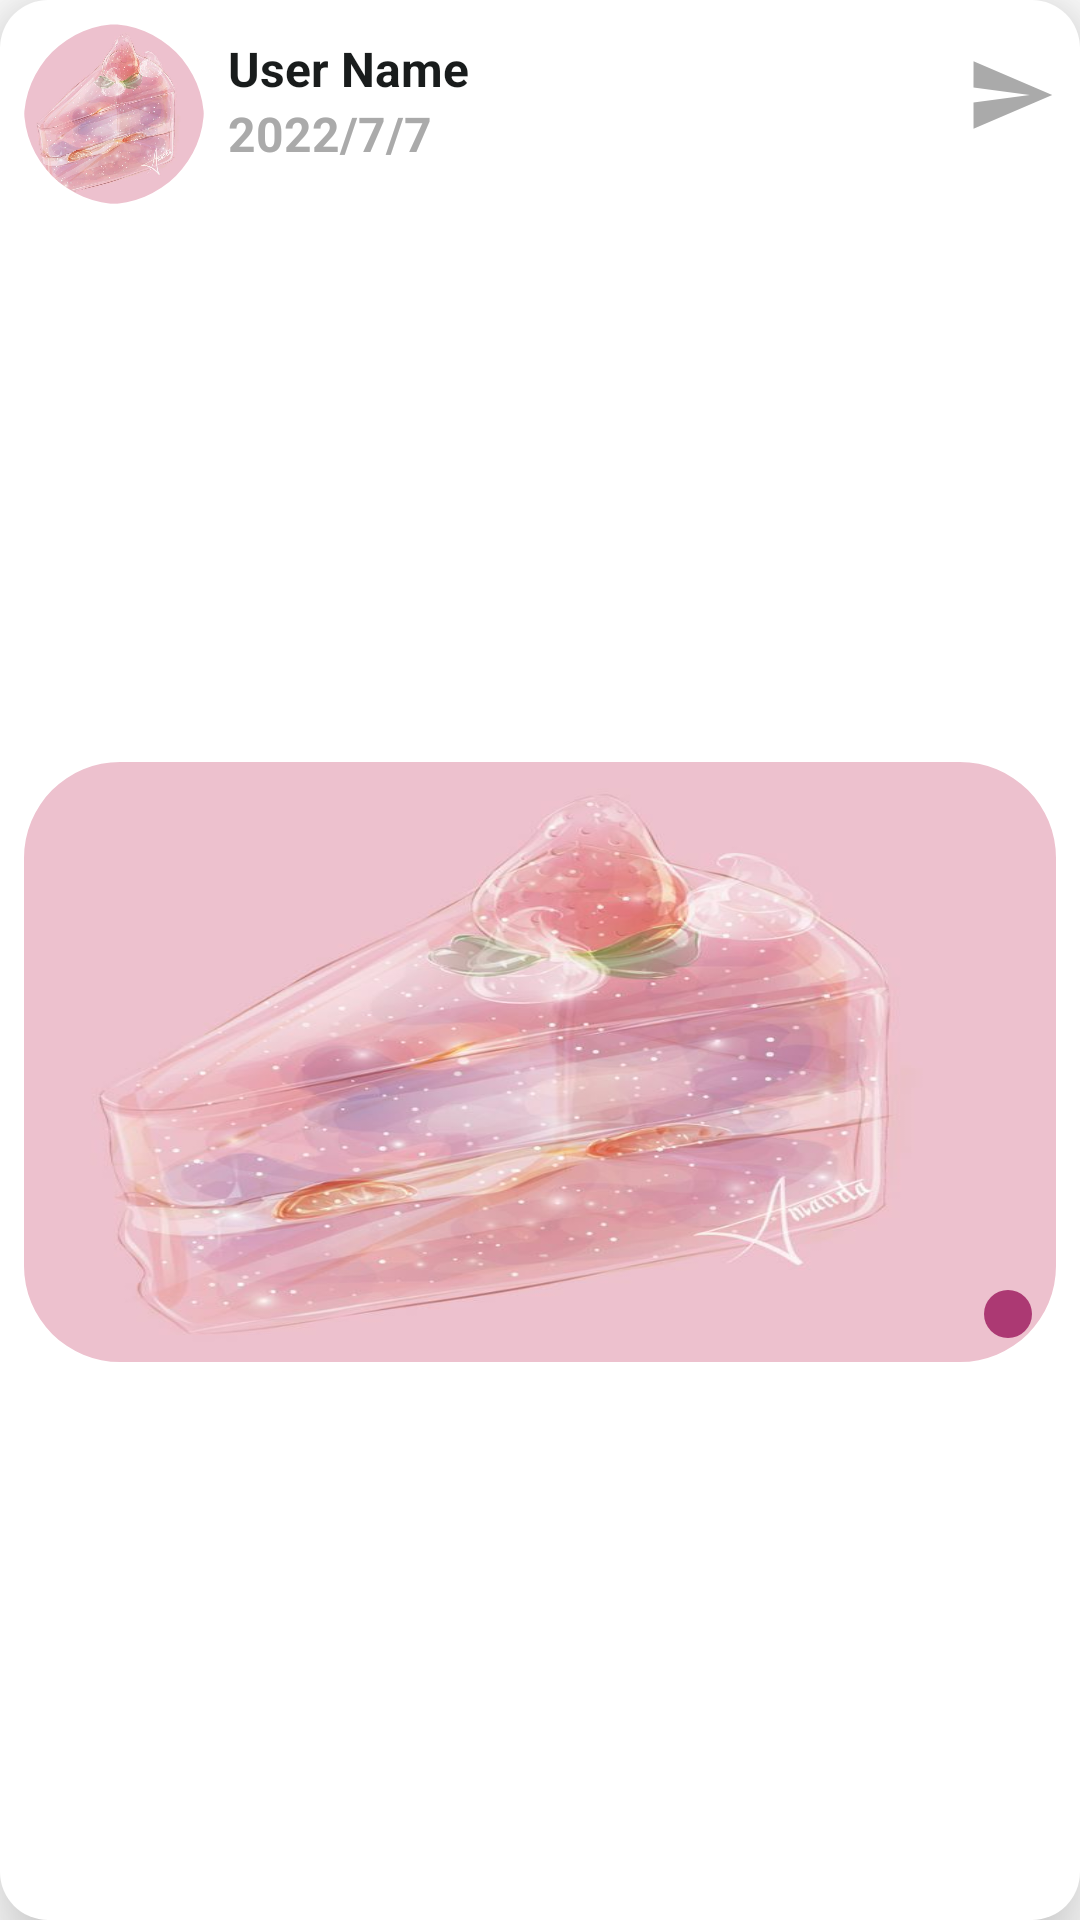

Where icons sit on this 1080×1920 app screen, as {"left": x1, "top": y1, "right": x2, "bottom": y2}:
send: {"left": 973, "top": 61, "right": 1052, "bottom": 129}
